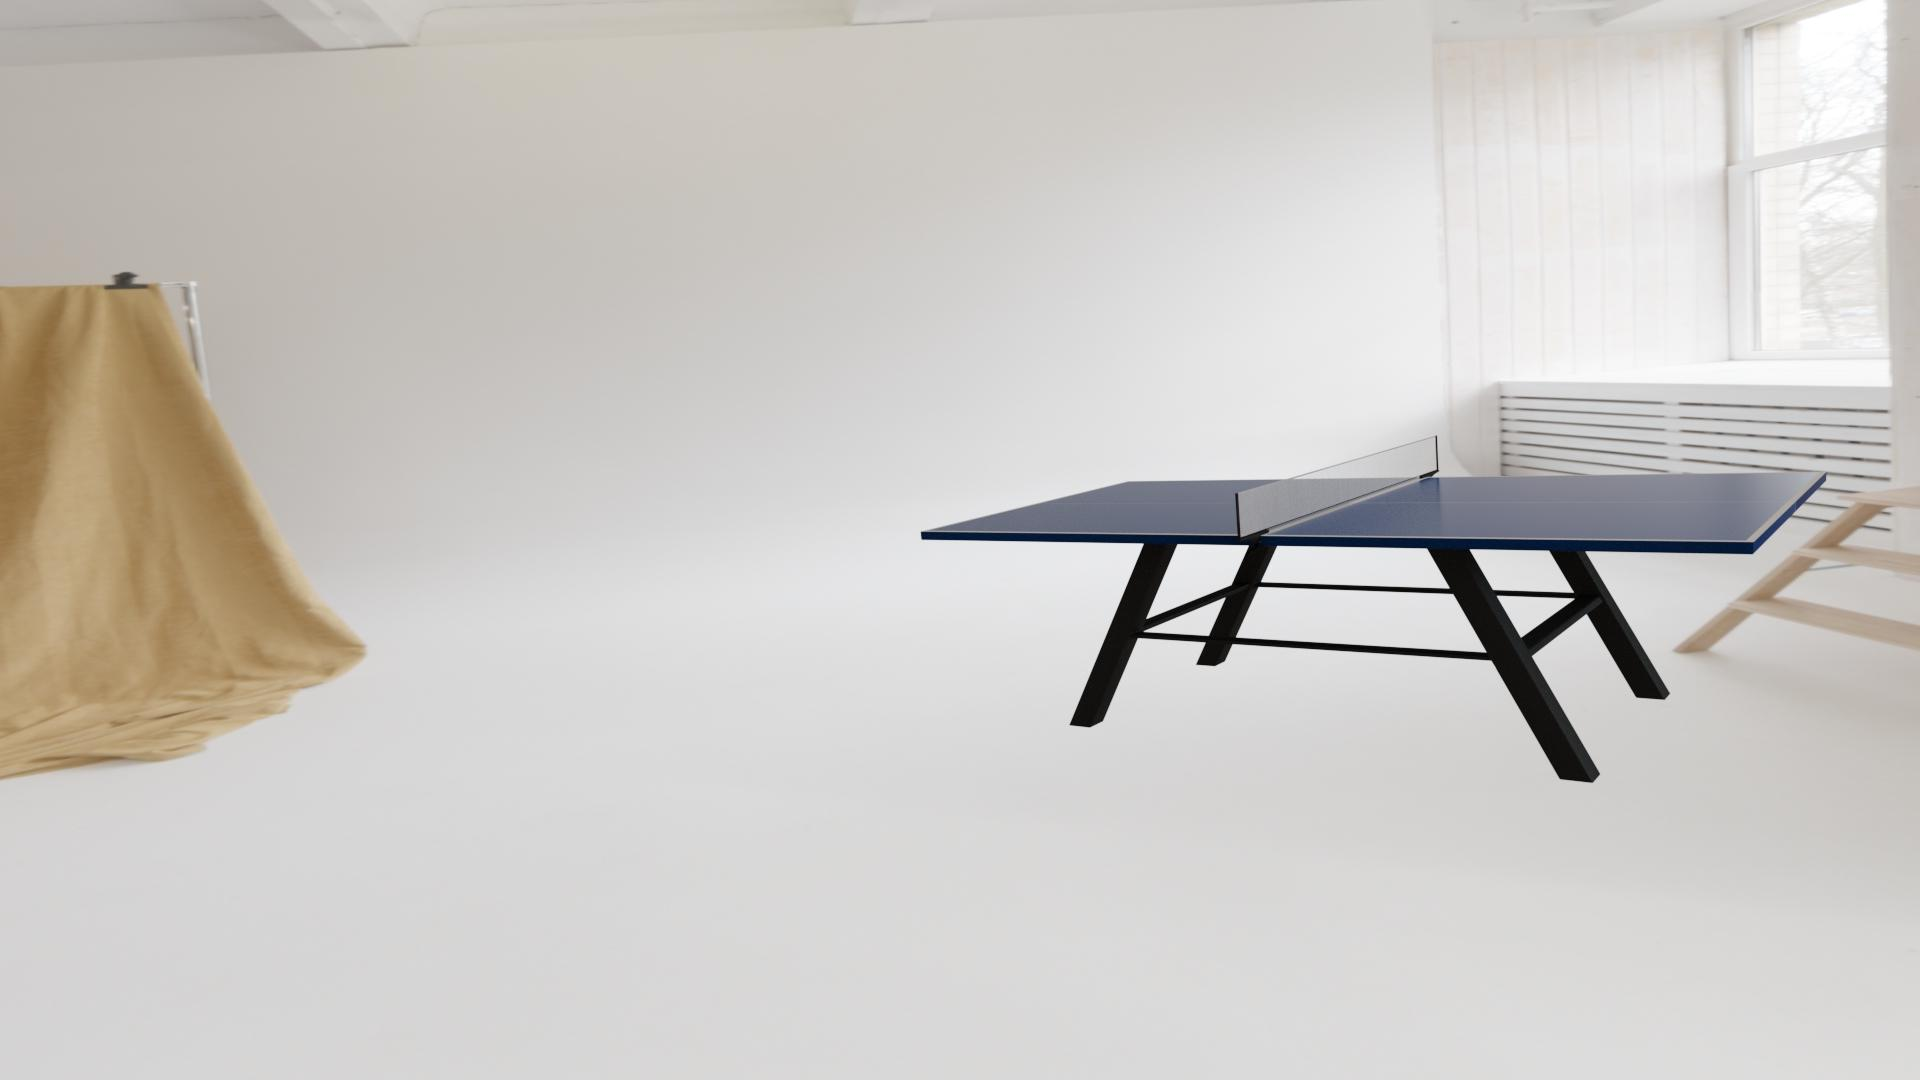table: (927, 472, 1818, 541)
